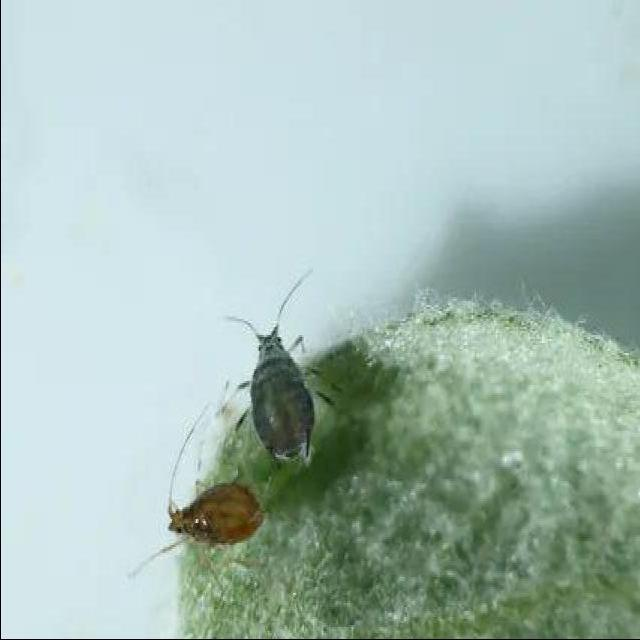aphid: (221, 306, 324, 462), (158, 477, 268, 555)
